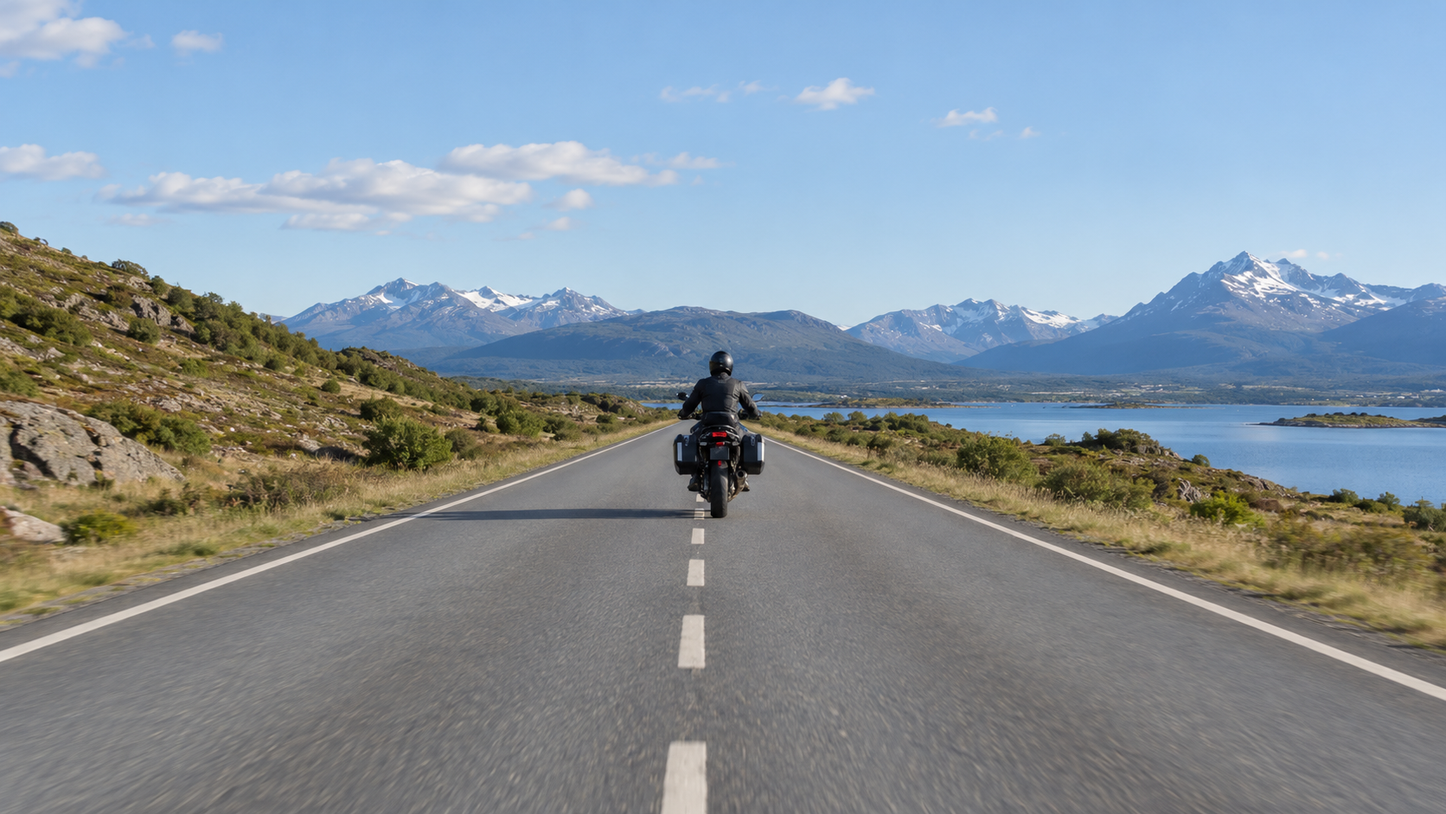motorcycle: (669, 401, 774, 521)
person: (677, 351, 765, 466)
